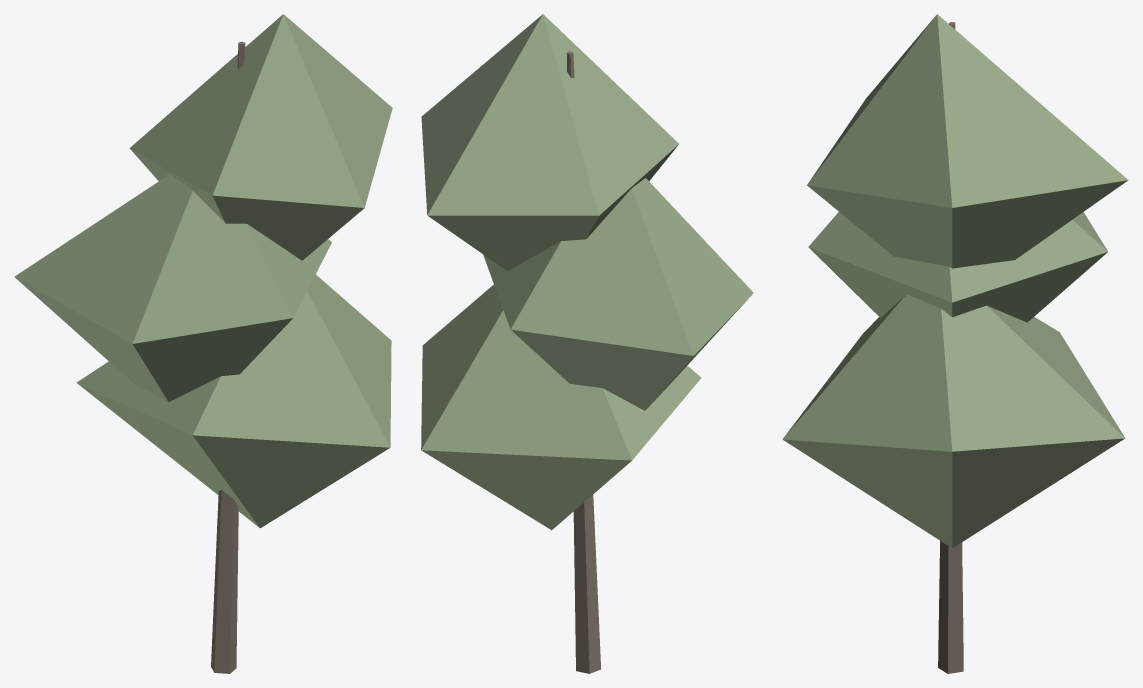
3 renders of one model, left to right at view 1: azimuth 30°, elevation 25°; view 2: azimuth 150°, elevation 25°; view 3: azimuth 270°, elevation 25°, orthographic. The views are drawn at different scales.
Size of the model in its own units: 2.66 by 5.02 by 2.31.
